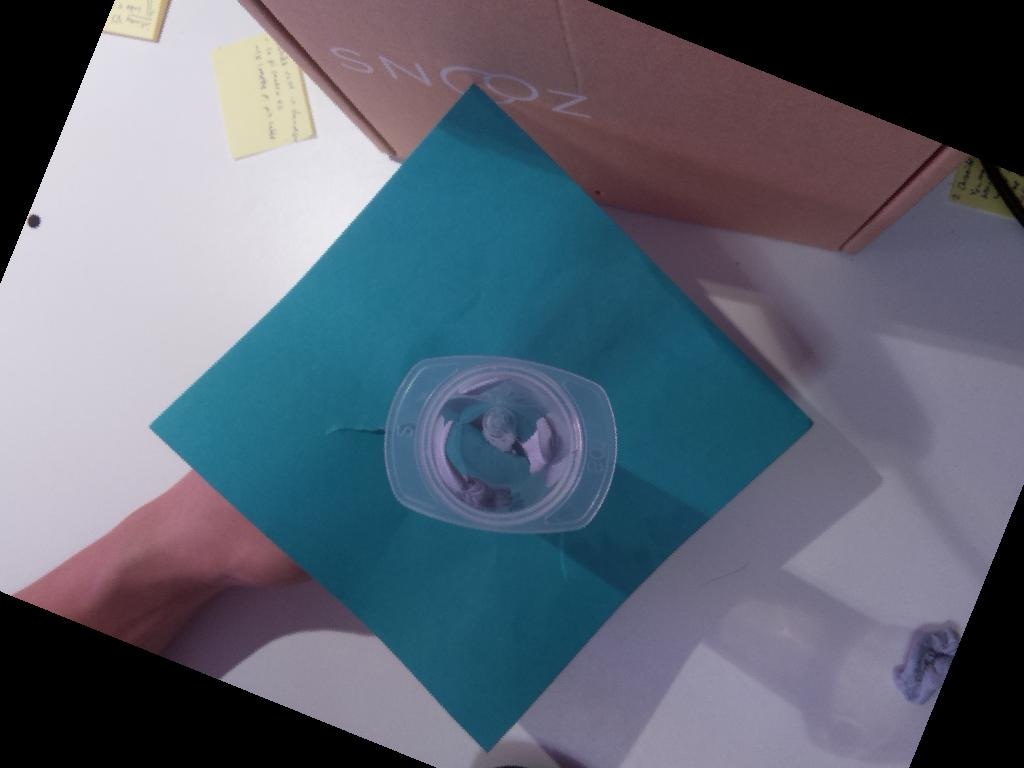dirty: (383, 354, 619, 532)
